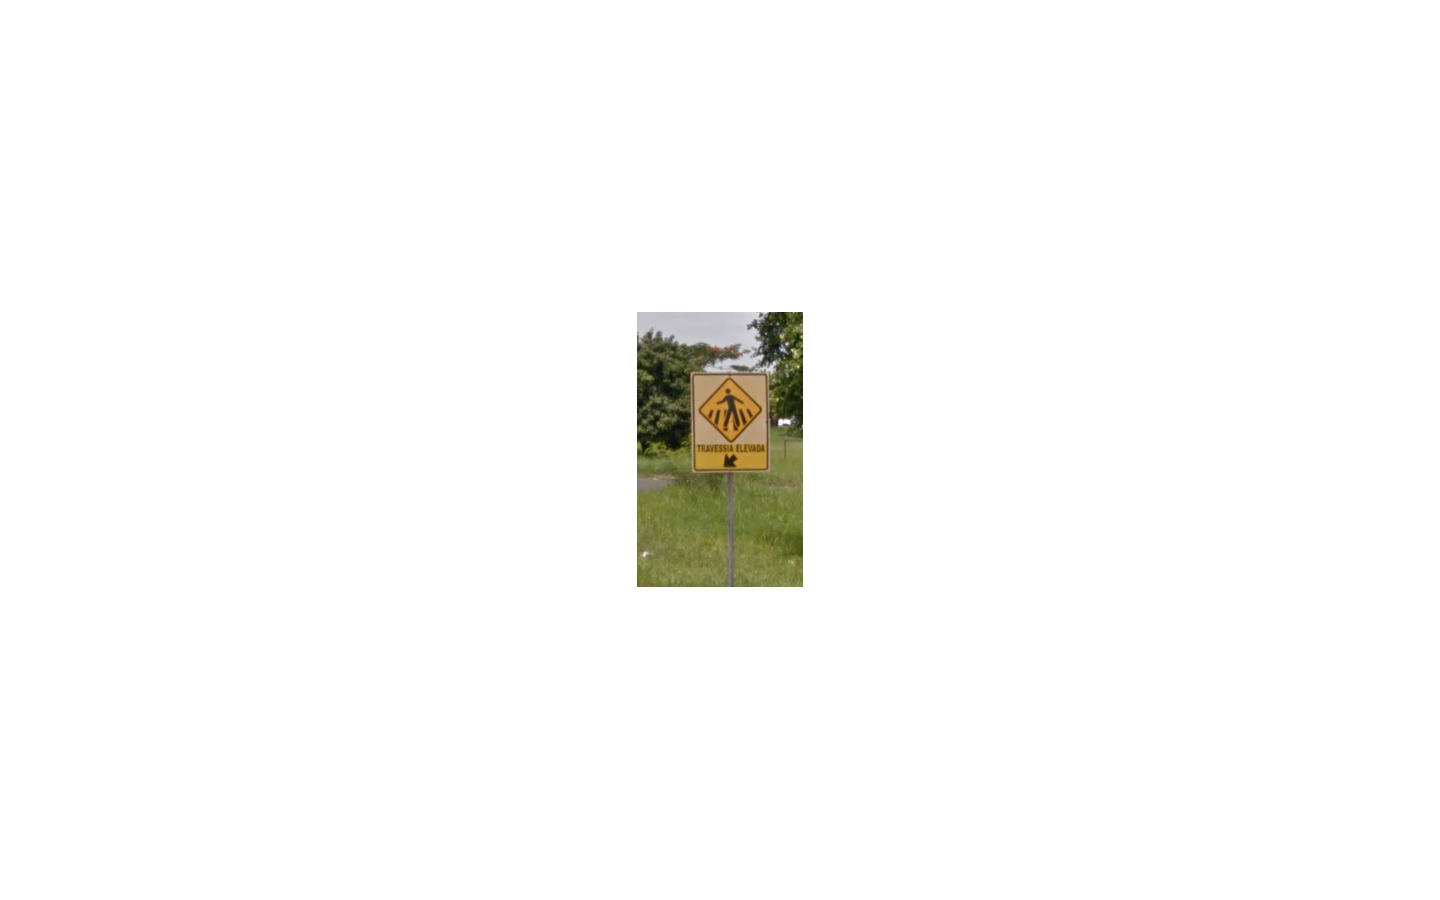telev: (691, 372, 770, 473)
